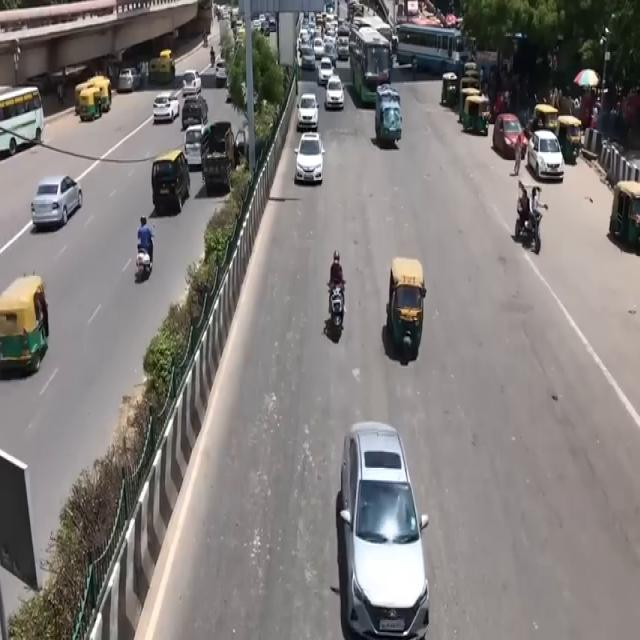BUS: (395, 18, 461, 72), (349, 30, 392, 107)
MOTORCYCLE: (331, 286, 346, 346)
SED: (340, 420, 428, 640)
